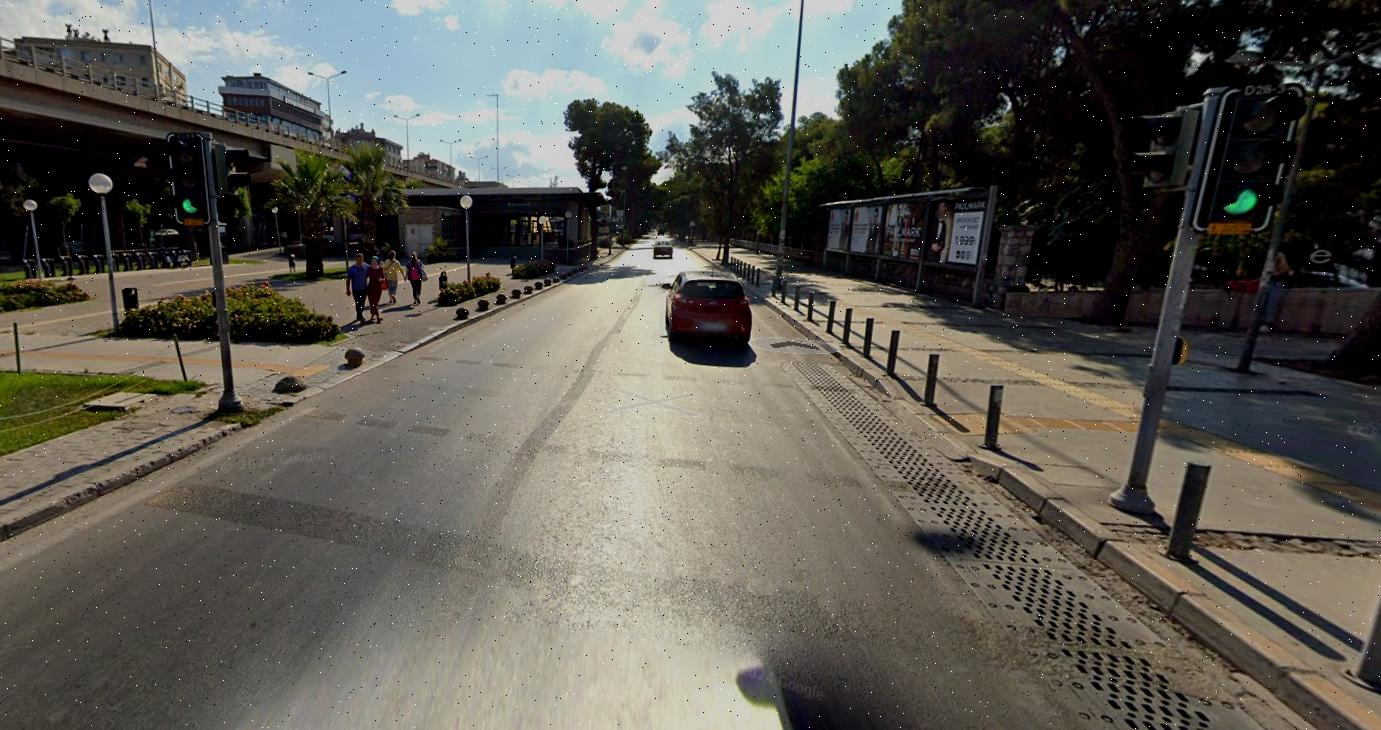greenlight: (167, 131, 209, 227)
